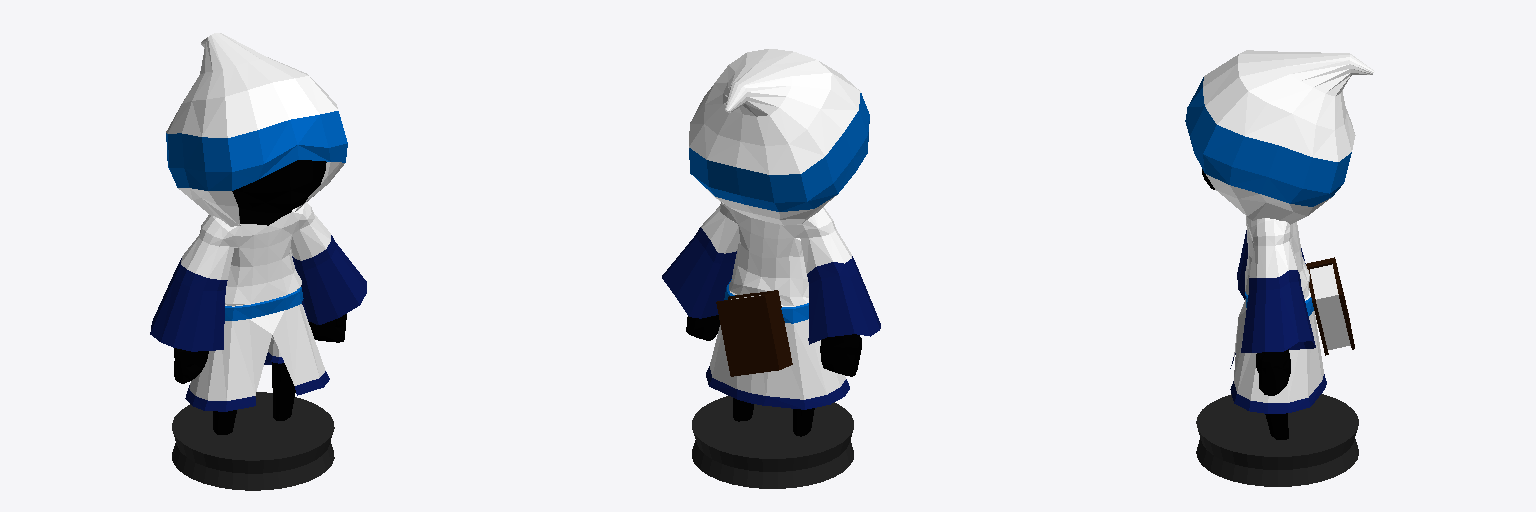
File: pawn.obj
The picture shows the model from 3 angles: view 1: azimuth 30°, elevation 25°; view 2: azimuth 150°, elevation 25°; view 3: azimuth 270°, elevation 25°; orthographic projection.
Visible parts, largest first — view 1: Body_Cube.004, Cylinder; view 2: Body_Cube.004, Cylinder, 立方体; view 3: Body_Cube.004, Cylinder, 立方体.
Part boxes in pixels (x1,y1,x2,y2): Body_Cube.004: (150,33,366,434); Cylinder: (172,392,334,490); Body_Cube.004: (662,49,880,436); Cylinder: (692,396,853,488); 立方体: (716,290,792,376); Body_Cube.004: (1185,50,1374,439); Cylinder: (1196,394,1358,486); 立方体: (1306,257,1354,355).
Bounding box in the file's own units: 1.89 × 3.44 × 1.49.